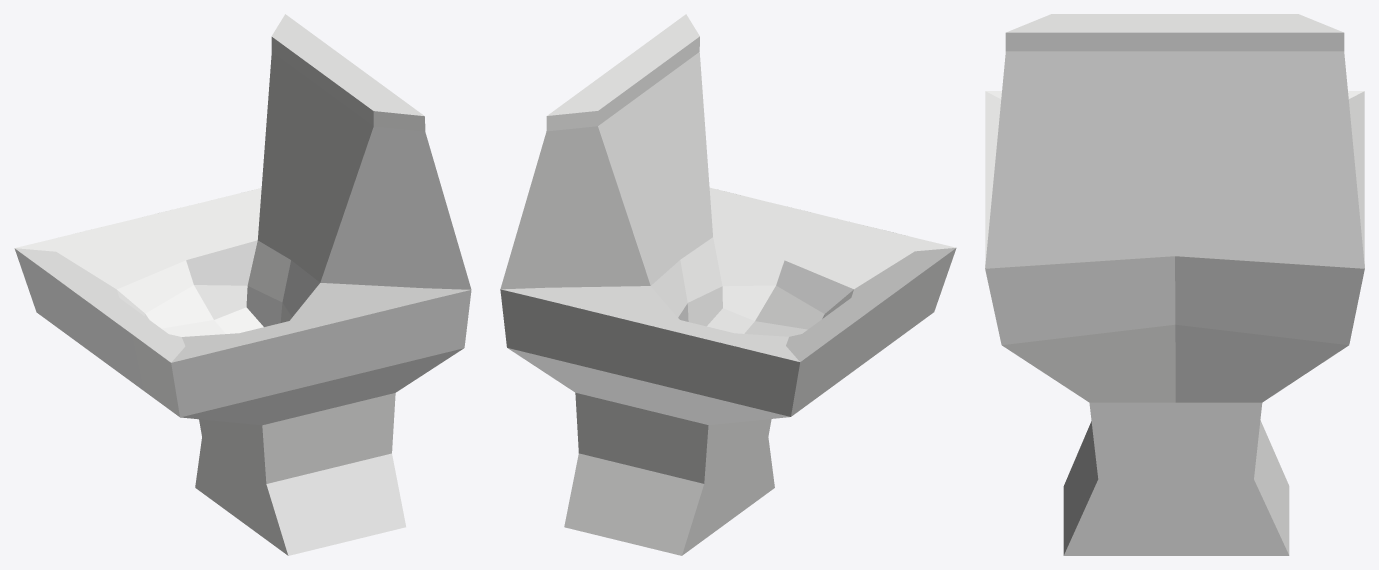
The model's file is lokum.gltf.
The picture shows the model from 3 angles, left to right: view 1: azimuth 30°, elevation 25°; view 2: azimuth 150°, elevation 25°; view 3: azimuth 270°, elevation 25°; orthographic projection. The views are drawn at different scales.
Visible parts, largest first — view 1: Cube; view 2: Cube; view 3: Cube.
Part boxes in pixels (x1,y1,x2,y2): Cube: [14, 14, 471, 555]; Cube: [500, 14, 956, 555]; Cube: [985, 14, 1364, 555].
Bounding box in the file's own units: 2.48 × 3.39 × 2.24.
Materials: 1 (1 with a texture image).
